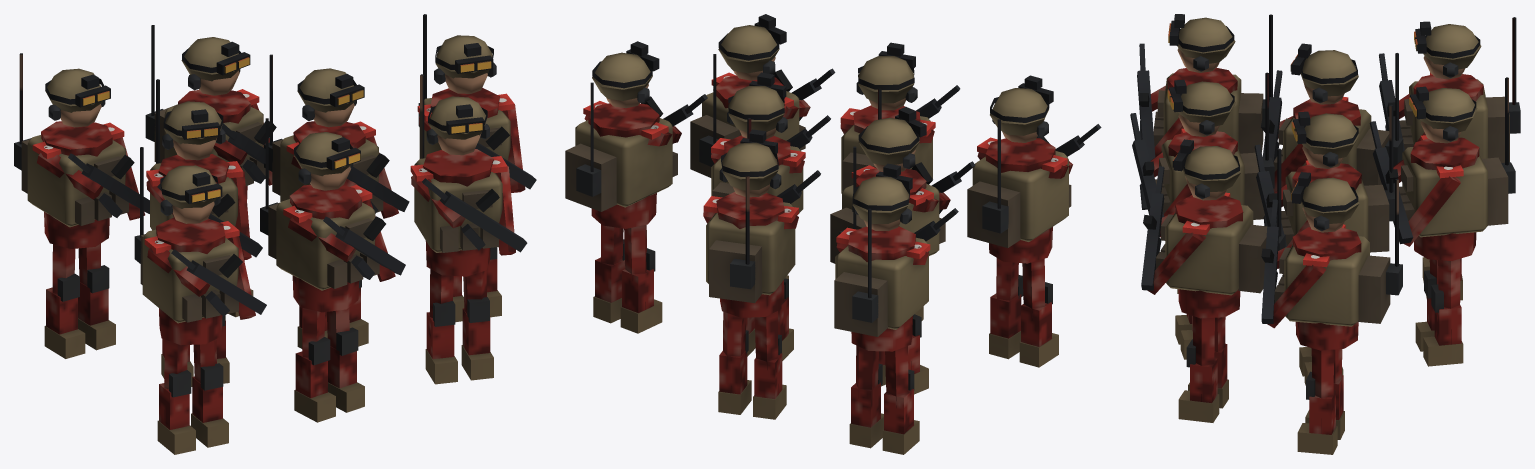
The model's file is squad_dl7_red.glb.
3 renders of one model, left to right at view 1: azimuth 30°, elevation 25°; view 2: azimuth 150°, elevation 25°; view 3: azimuth 270°, elevation 25°, orthographic. The views are drawn at different scales.
Parts seen in each view (by area): view 1: squad_dl7_red; view 2: squad_dl7_red; view 3: squad_dl7_red.
Boxes of the visible parts, box(x1,y1,x2,y2) form: squad_dl7_red: box(14, 14, 536, 454); squad_dl7_red: box(565, 14, 1101, 454); squad_dl7_red: box(1130, 14, 1520, 454).
Bounding box in the file's own units: 0.6365 × 0.3857 × 0.5164.
1 material, 1 textured.
